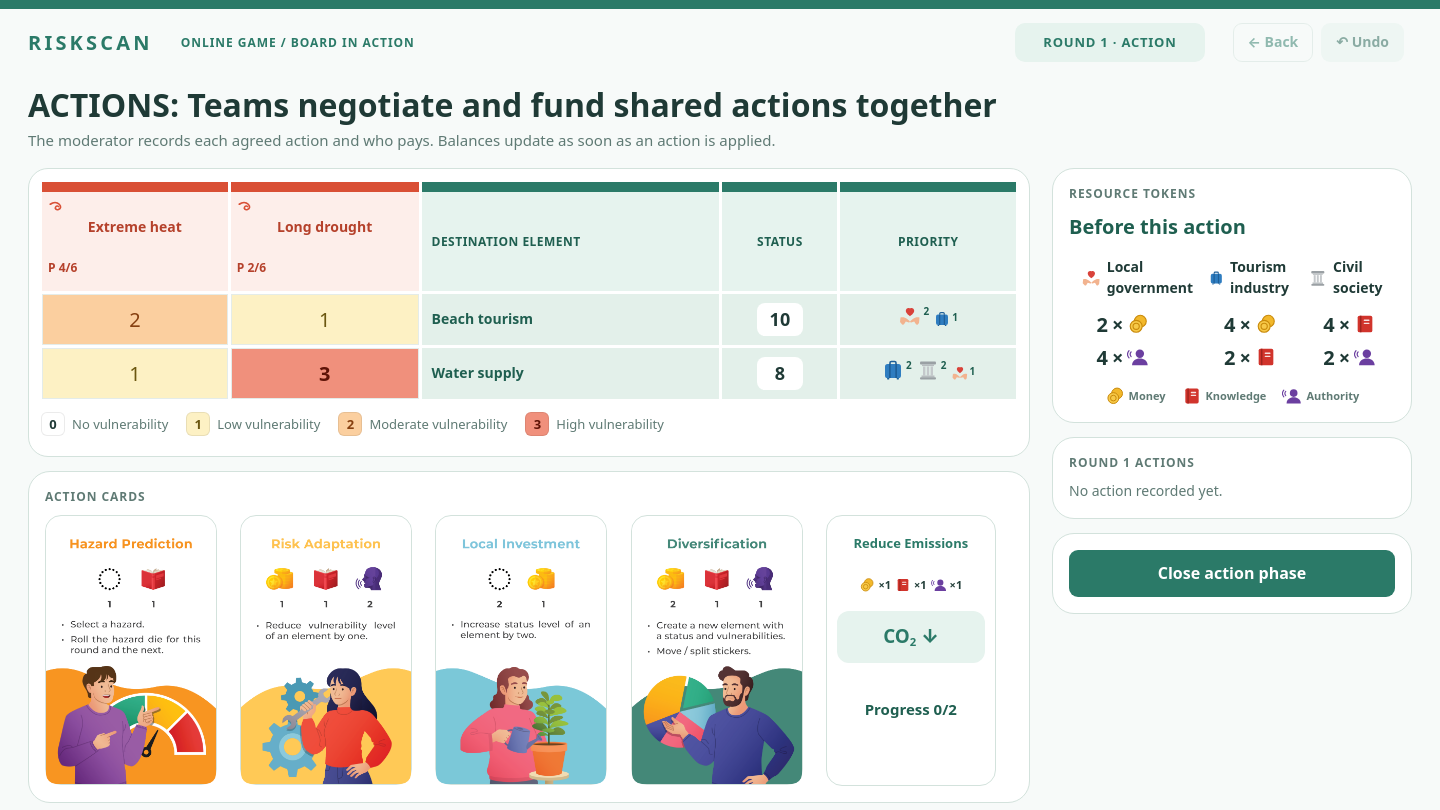
it: ModeratorPage › shows why the API refused an action and keeps the form
This screenshot has width=1440, height=810.
Click the 3rd button named "Local Investment" at (521, 650), box [435,515,607,785]
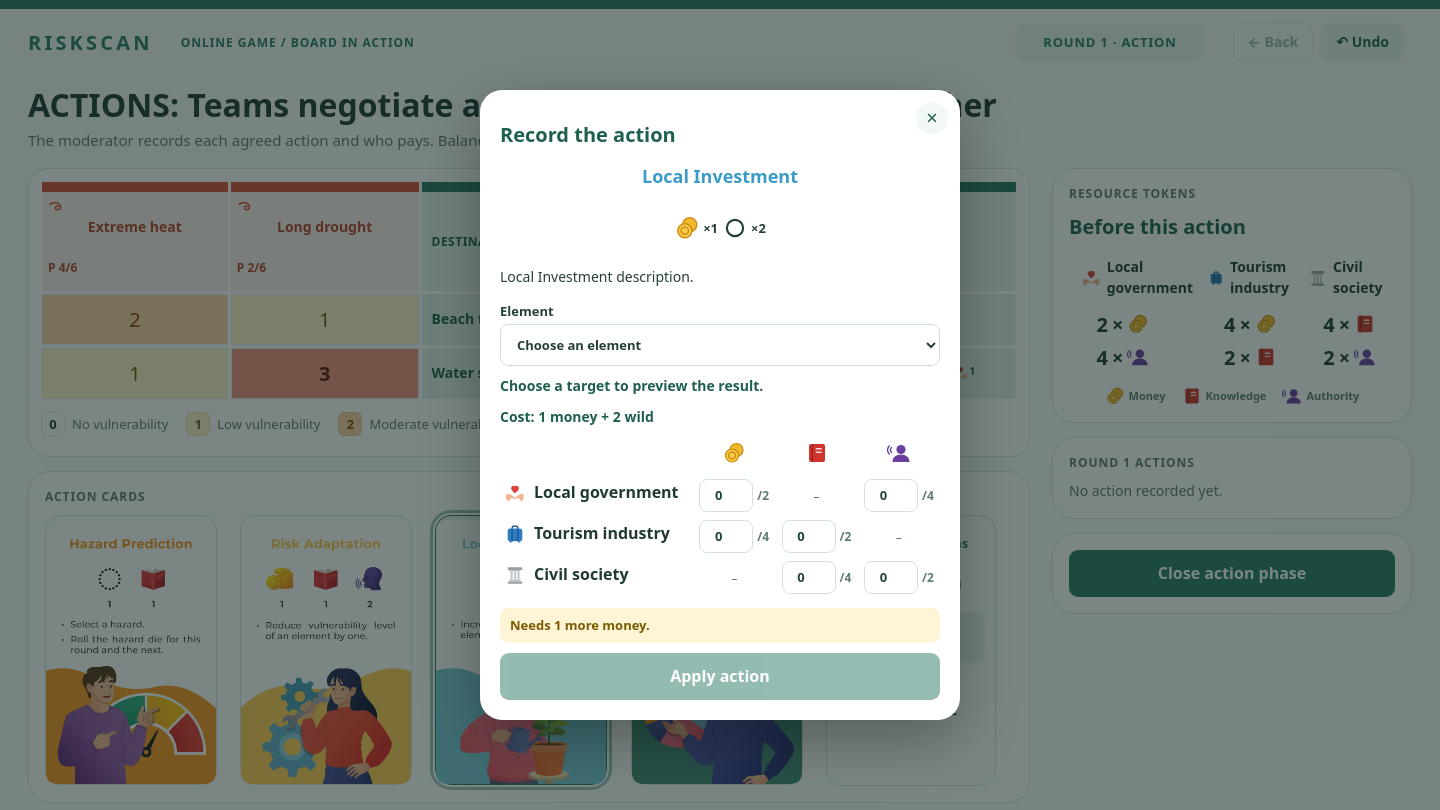
Select "Water supply (status 8)" in the dropdown labelled "Element" at (720, 345), box [500,324,940,366]
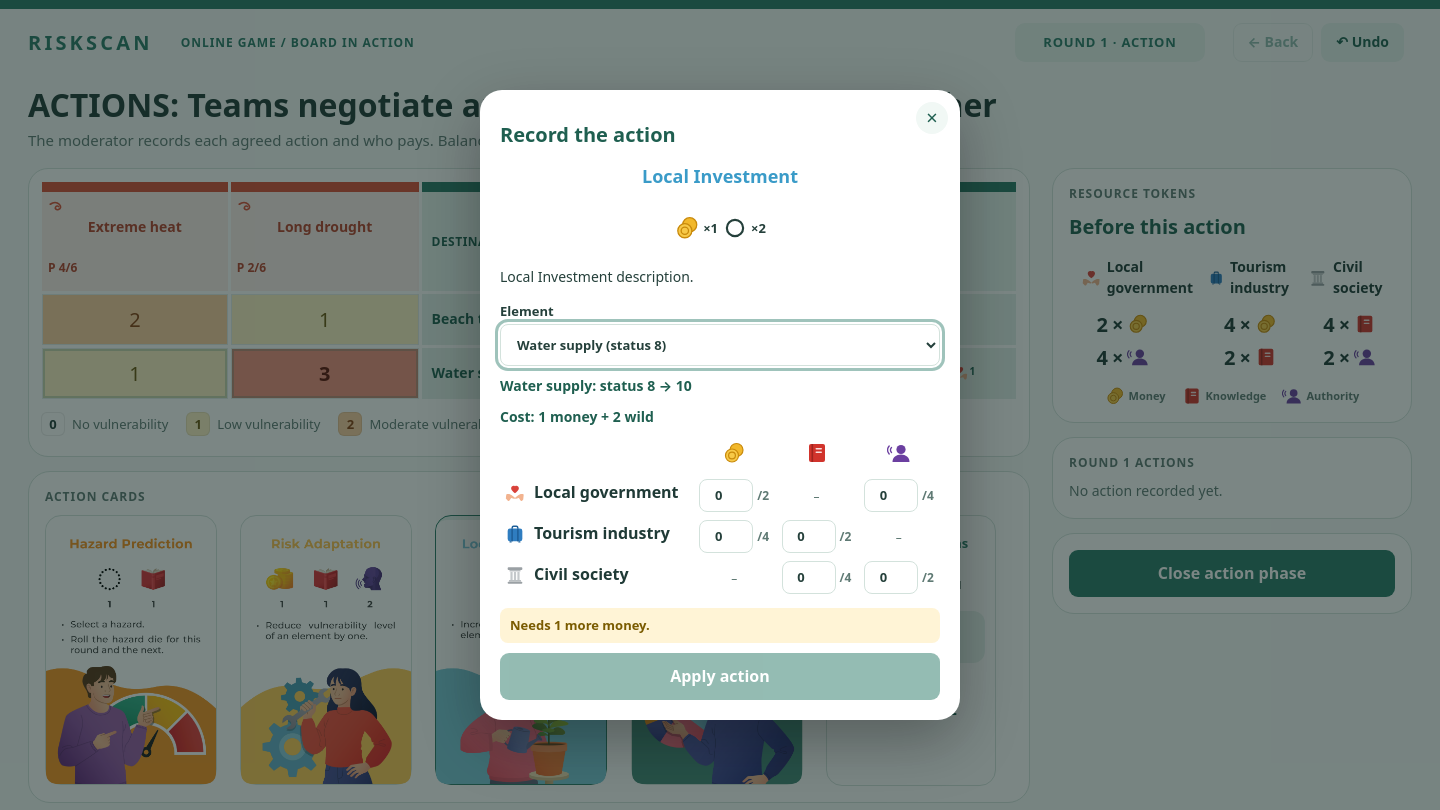
Type "3" into the number field named "Tourism Industry pays money" at (726, 536), box [699,520,753,553]
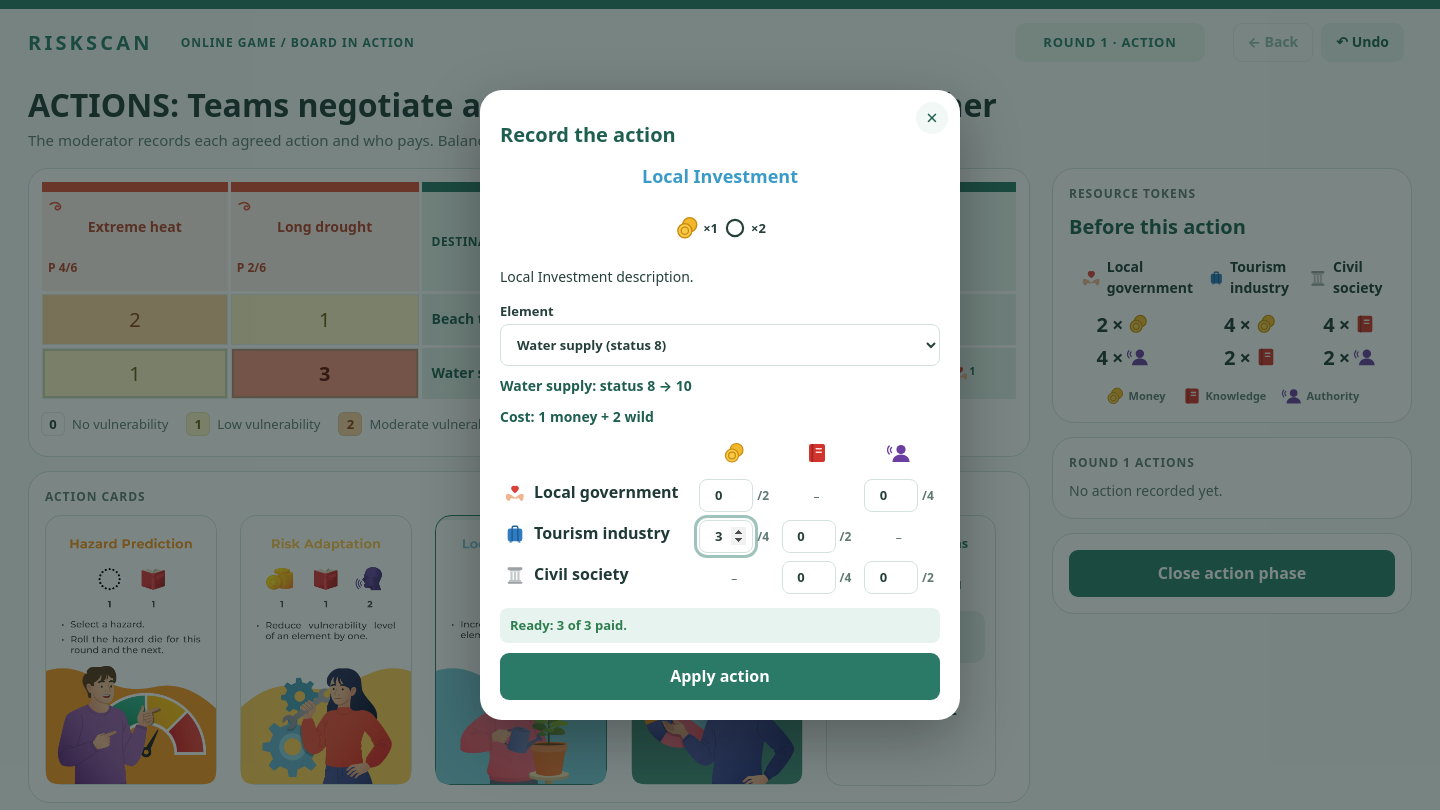
Click the button "Apply action" at (720, 676), box [500,653,940,700]
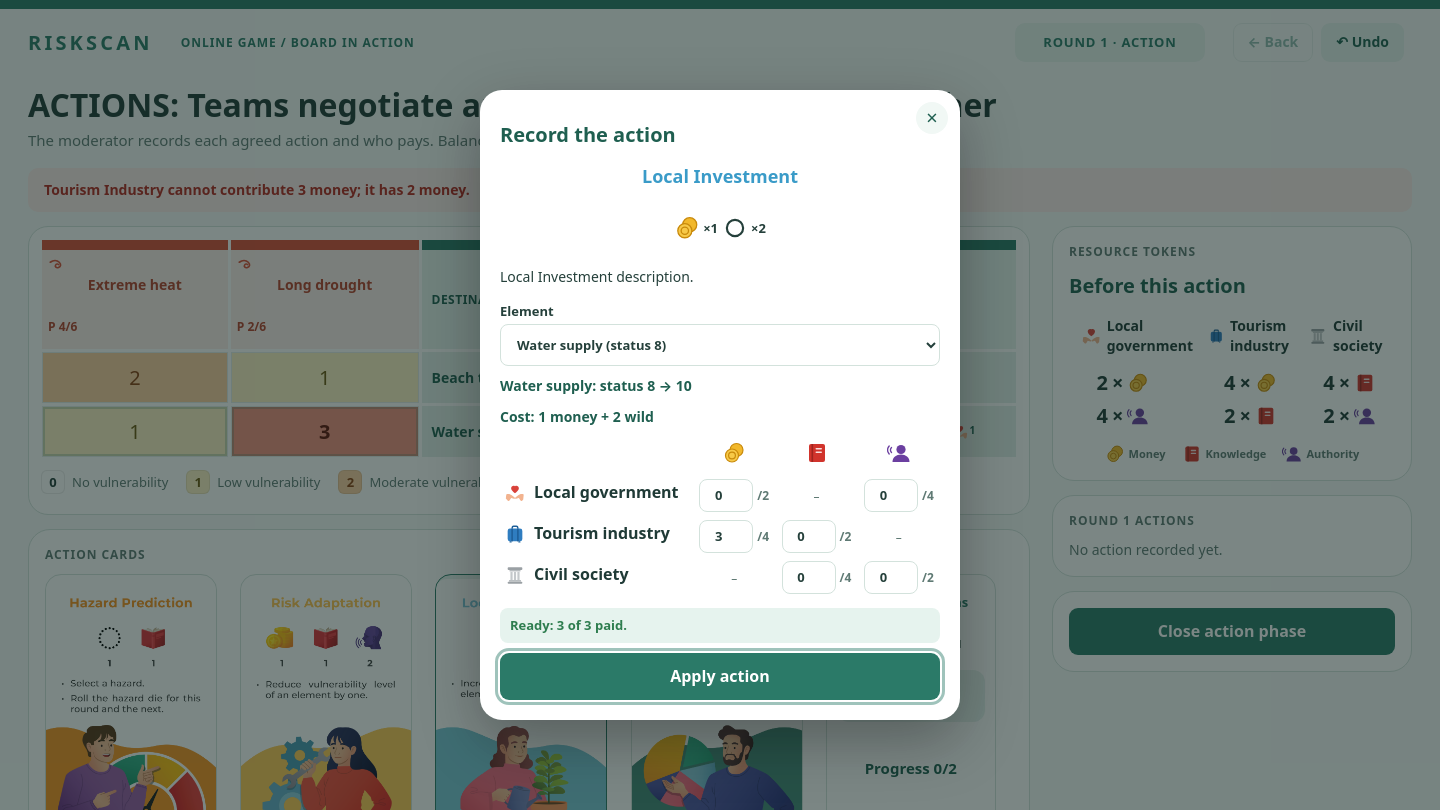
Expected: the button "Apply action" is shown, [500,653,940,700]
Expected: the message "Tourism Industry cannot contribute 3 money; it has 2 money." is shown, [28,168,1412,212]
